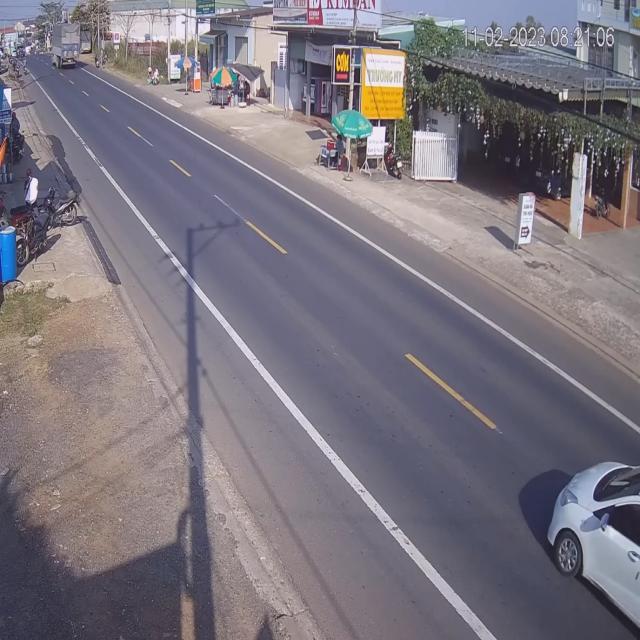car: (542, 458, 638, 640)
truck: (54, 20, 82, 70)
